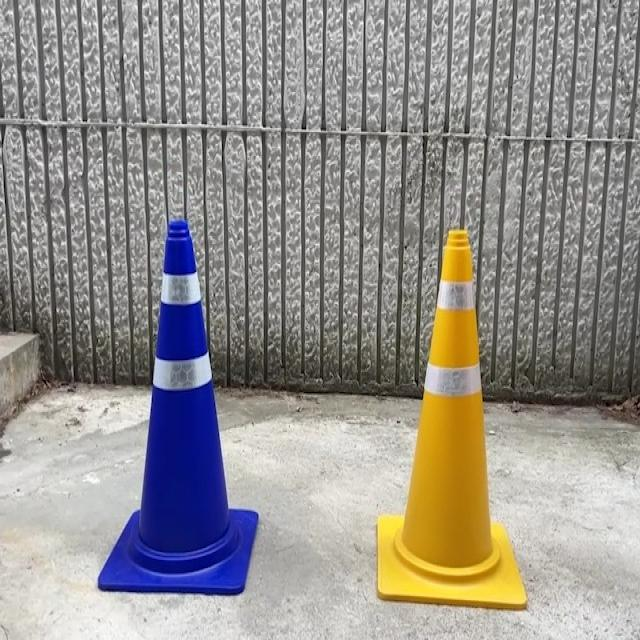b_rub: (98, 220, 258, 595)
y_rub: (378, 230, 528, 610)
